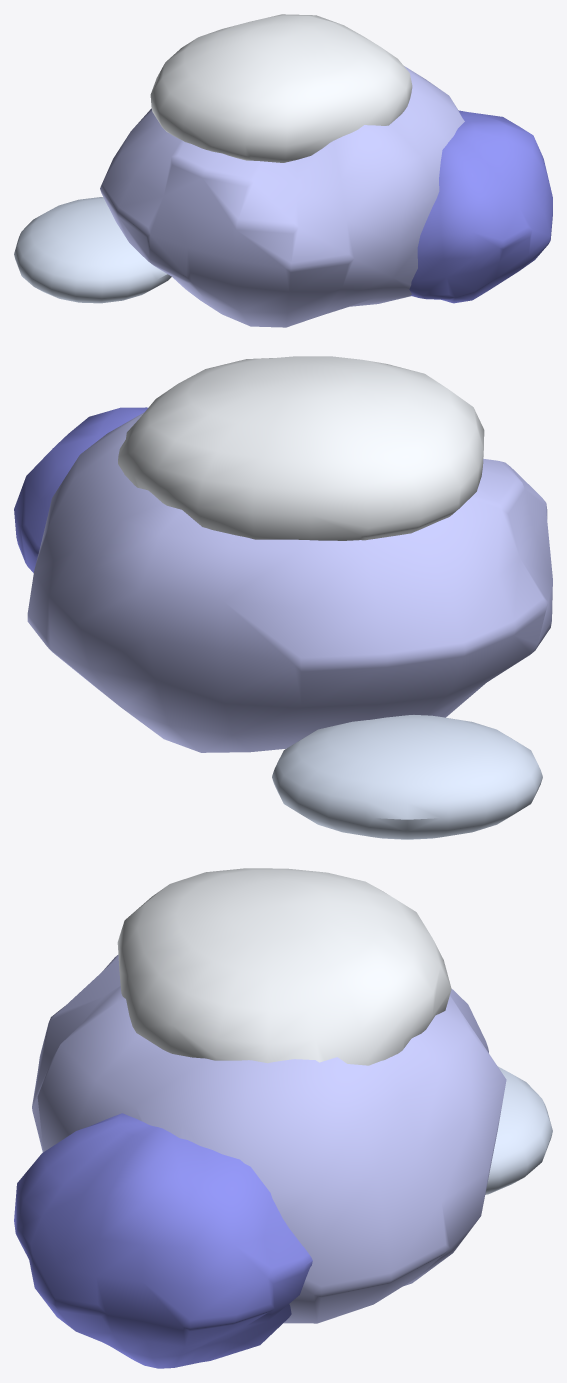
The model's file is SnowRockA.glb.
The picture shows the model from 3 angles, top to bottom: view 1: azimuth 30°, elevation 25°; view 2: azimuth 150°, elevation 25°; view 3: azimuth 270°, elevation 25°; orthographic projection. The views are drawn at different scales.
Visible parts, largest first — view 1: SnowRockA; view 2: SnowRockA; view 3: SnowRockA.
Boxes of the visible parts, box(x1,y1,x2,y2) form: SnowRockA: box(14, 14, 552, 327); SnowRockA: box(14, 356, 552, 839); SnowRockA: box(14, 868, 552, 1368).
Size of the model in its own units: 15.38 by 8.79 by 11.45.
1 material, 1 textured.
